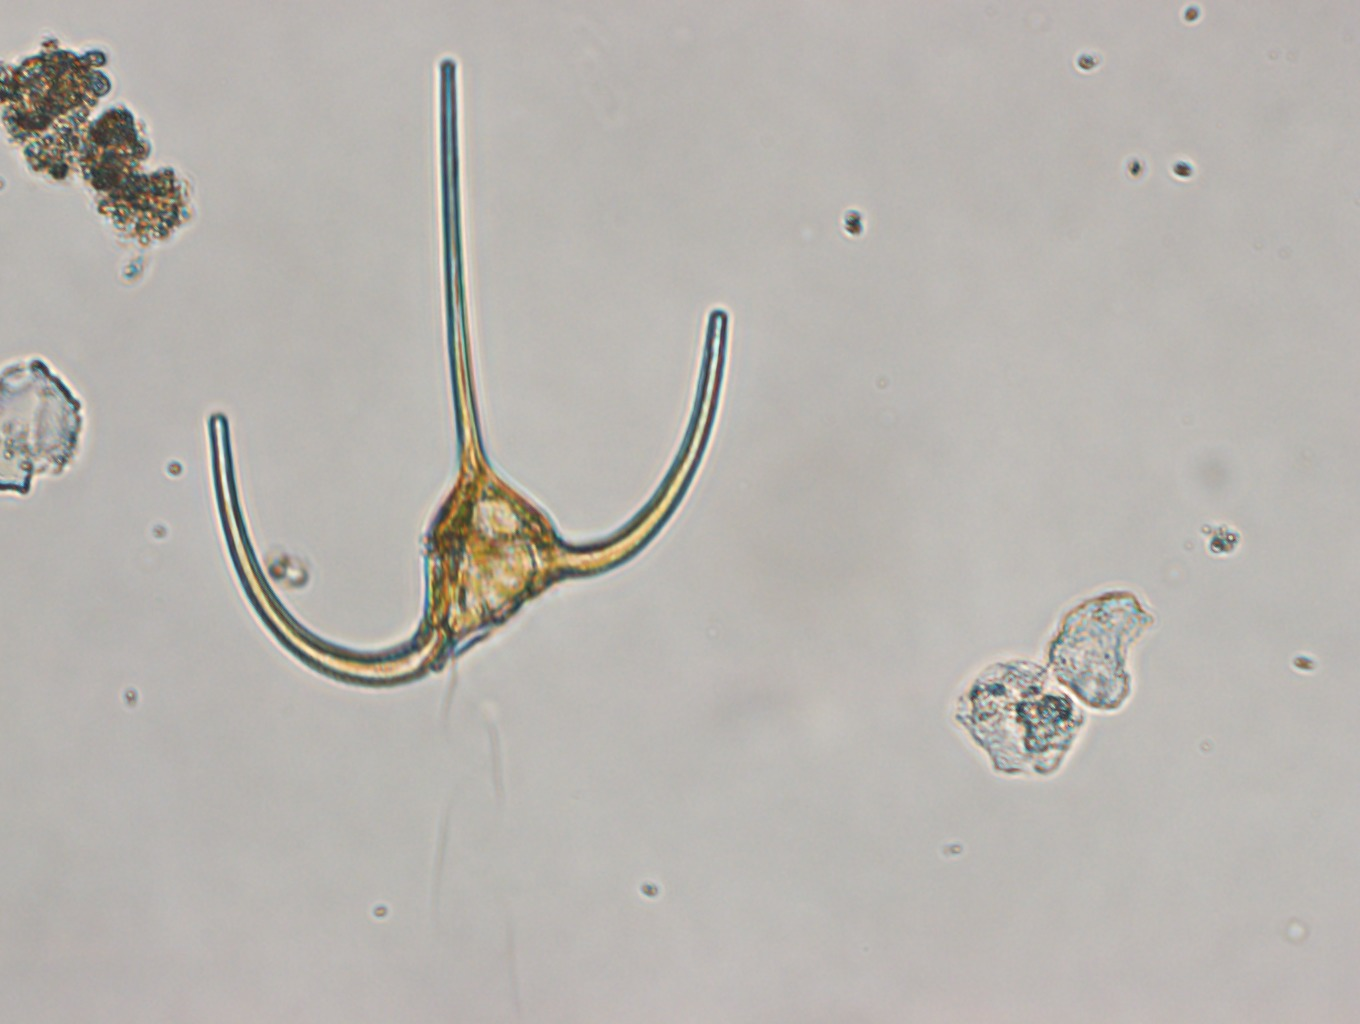ceratium trichoceros: (207, 55, 728, 688)
